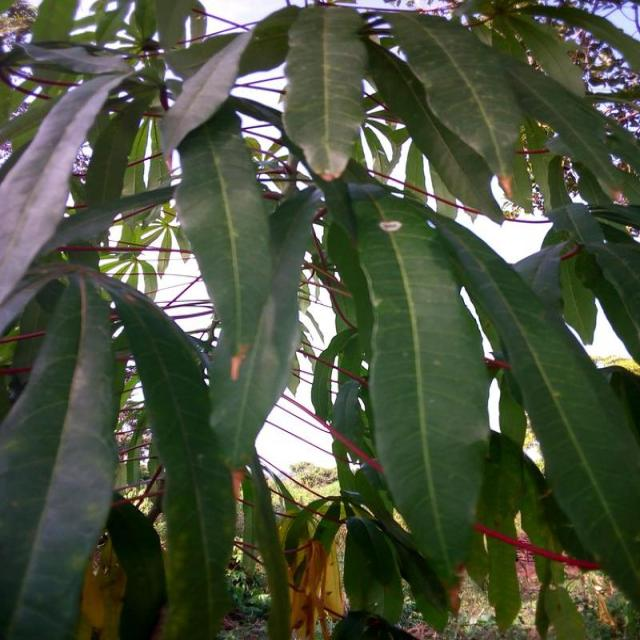cassava leaf: (2, 1, 639, 638), (338, 186, 494, 588), (0, 265, 121, 638), (282, 3, 370, 179)
